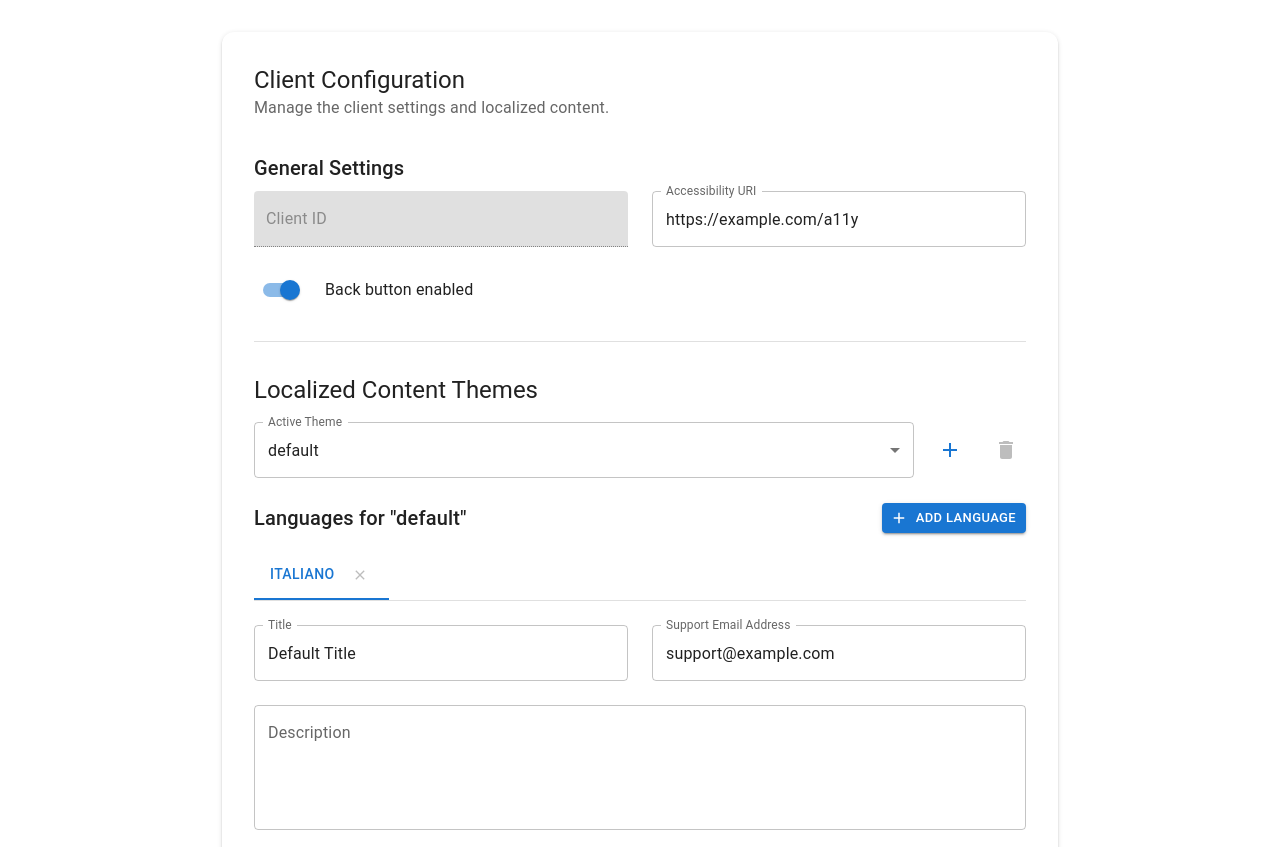
Test case: Refactored ReservedAreaForm Component › should allow deleting a non-default theme
Click the dropdown. click: coordinates (293, 450)
box: [268, 440, 319, 460]
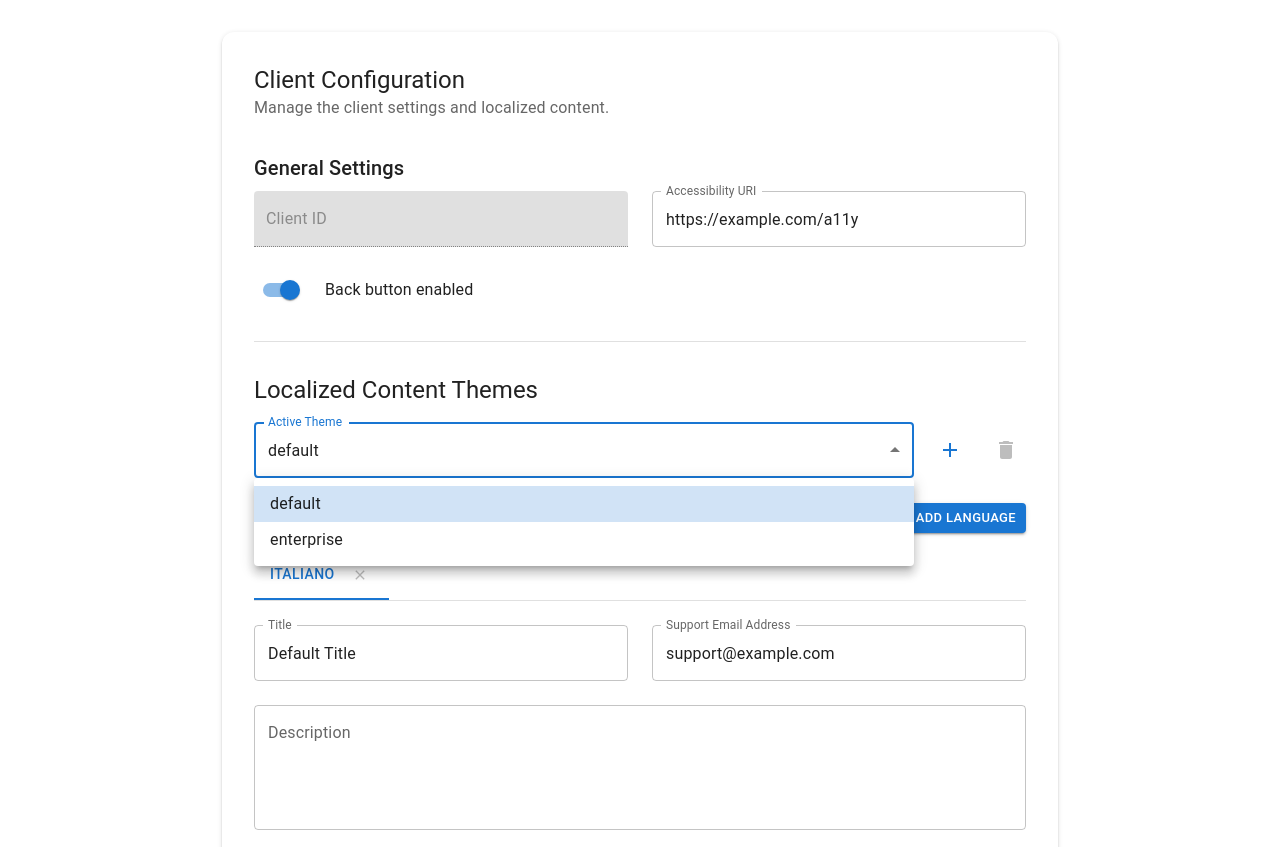
Click the option "enterprise". click: coordinates (306, 540)
box: [270, 530, 343, 549]
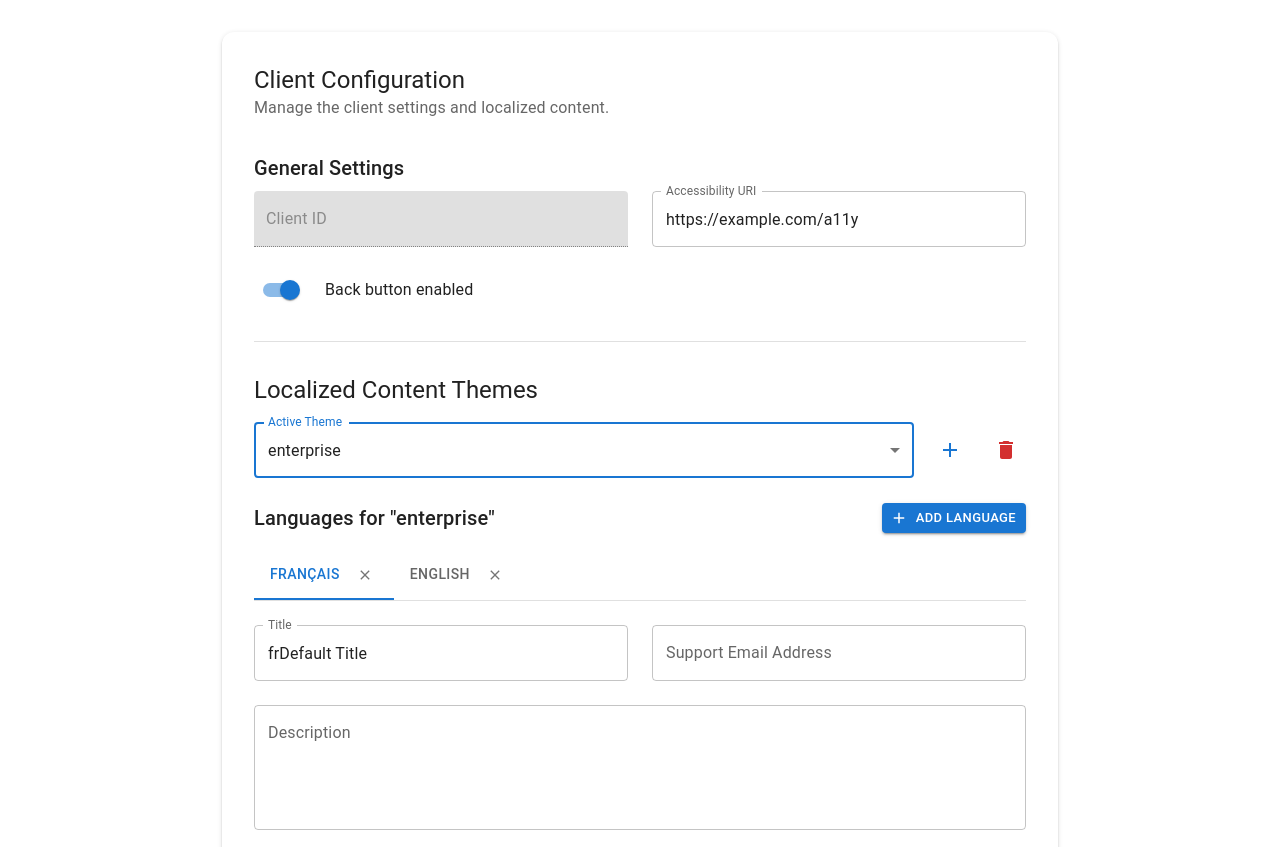
Check: the button named "Delete Current Theme" is enabled
Click the delete button
Click the button named "Delete Current Theme". click: coordinates (1006, 450)
box: [986, 430, 1026, 470]
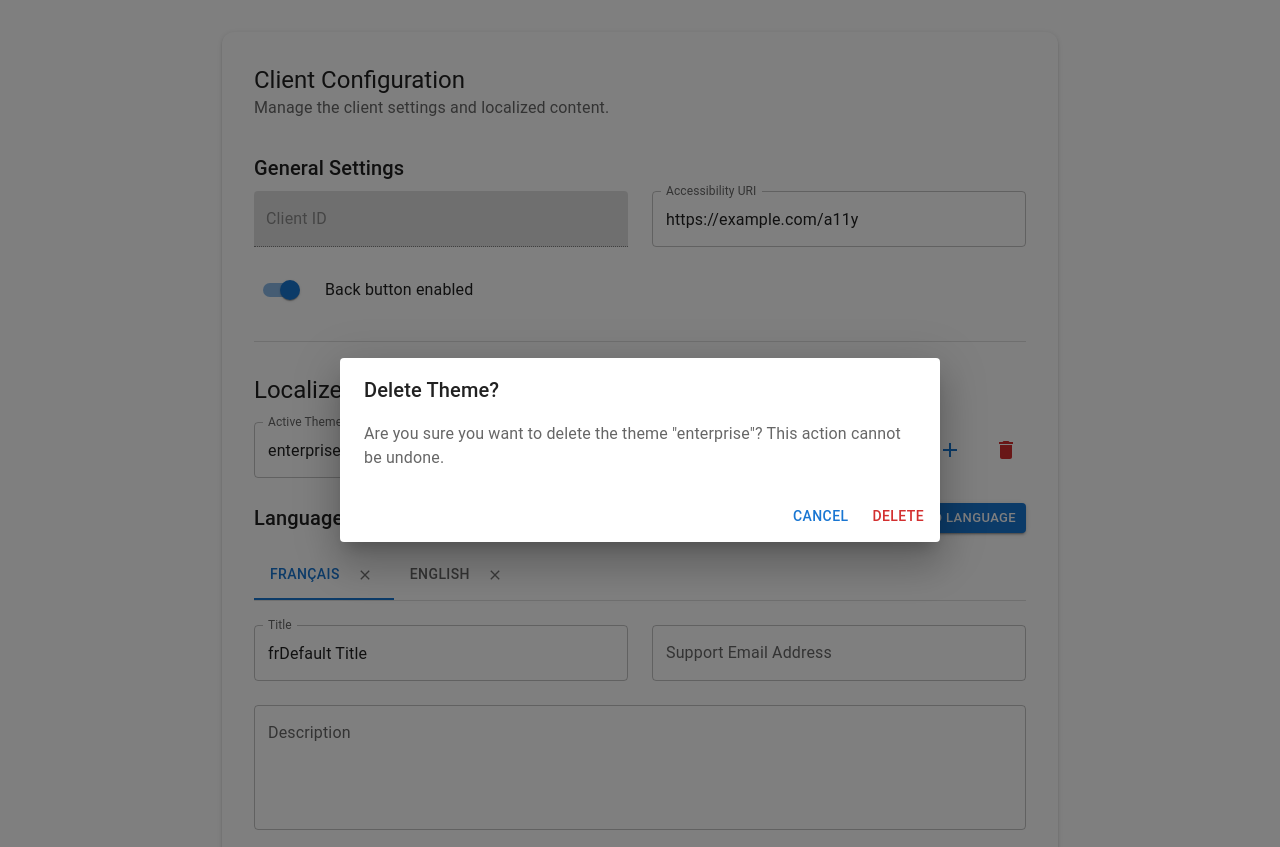
Check: the dialog is shown, box [340, 358, 940, 542]
Click the button "Delete". click: coordinates (898, 516)
box: [864, 498, 932, 534]
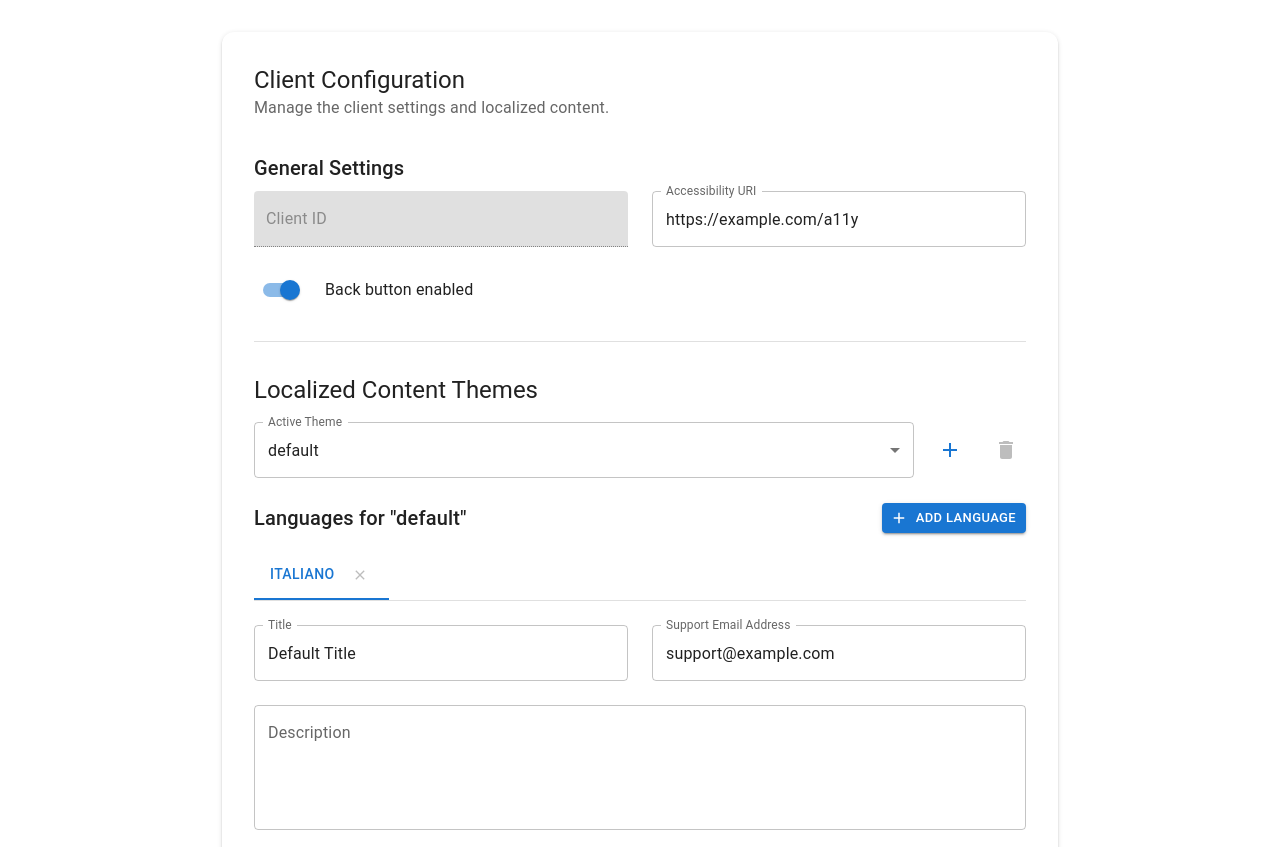
Check: the dropdown "enterprise" is gone
Check: the element with test id "theme-select" reads "default", box [268, 440, 319, 460]
